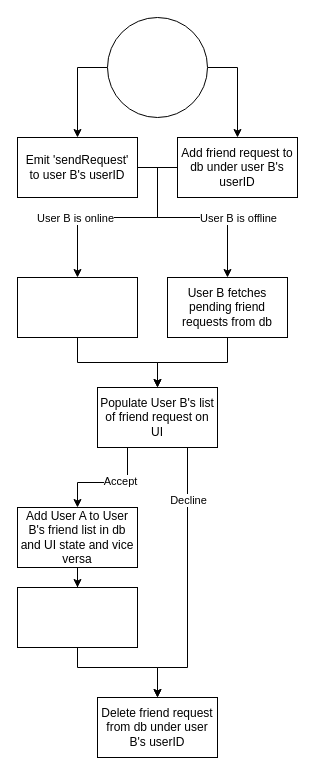
This 315x775 diagram has some shape labels left out. Each missing label, with the box of its shape:
Populate both users' friend list on UI: (16, 586, 138, 648)
User A send a friend request to user B: (106, 16, 208, 118)
User B listens to 'receiveRequest' with incoming userID: (16, 276, 138, 338)
